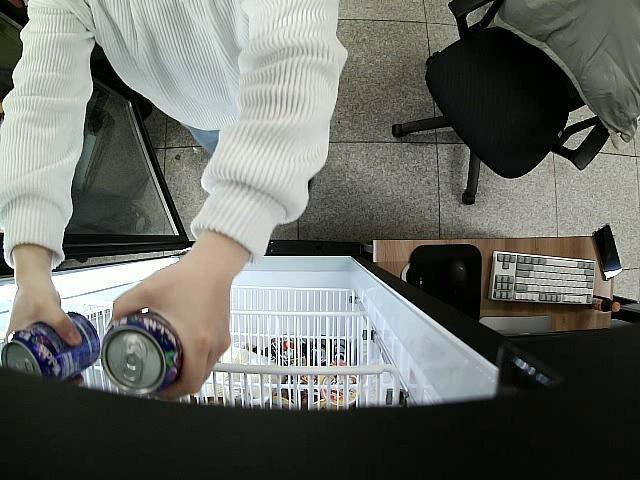14_welchsGrape: (1, 310, 100, 380), (101, 314, 184, 396)
